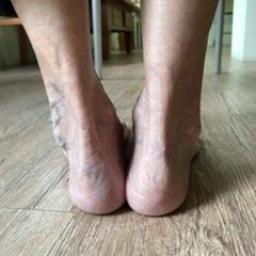Back View -Both Feet-: (31, 61, 225, 229)
